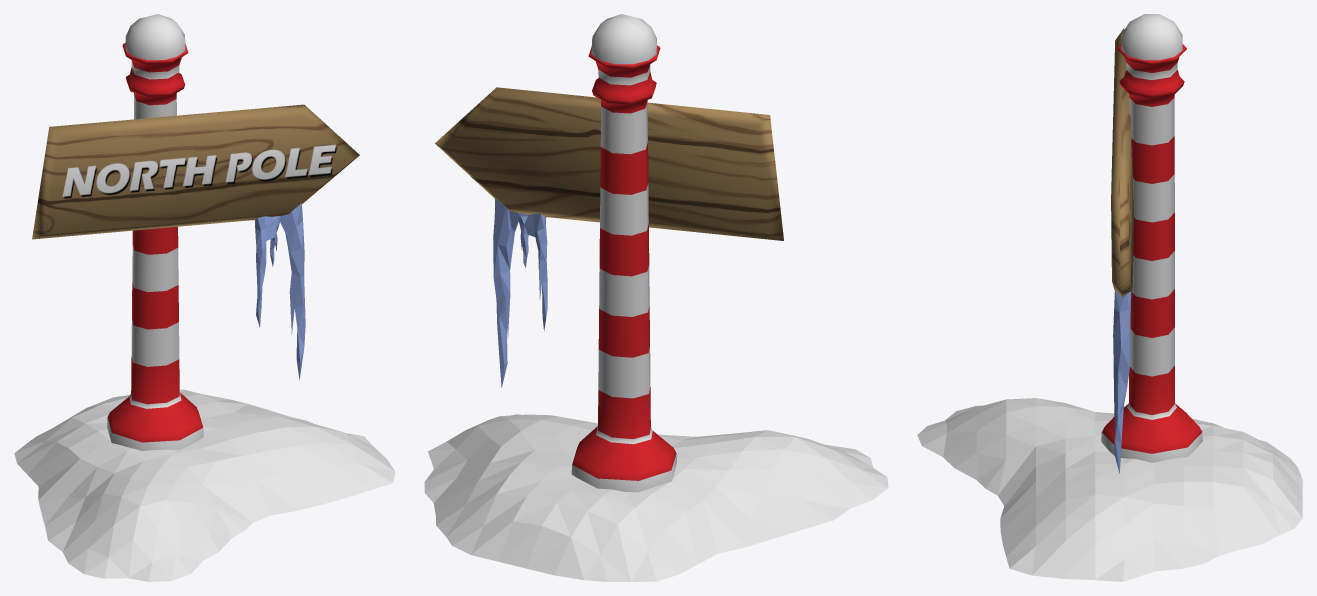
File: northpole_2022.glb
The picture shows the model from 3 angles, left to right: view 1: azimuth 30°, elevation 25°; view 2: azimuth 150°, elevation 25°; view 3: azimuth 270°, elevation 25°; orthographic projection. The views are drawn at different scales.
Visible parts, largest first — view 1: SnowCheckpoint; view 2: SnowCheckpoint; view 3: SnowCheckpoint.
Part boxes in pixels (x1,y1,x2,y2): SnowCheckpoint: [14, 14, 395, 581]; SnowCheckpoint: [424, 14, 888, 581]; SnowCheckpoint: [917, 14, 1302, 581].
Bounding box in the file's own units: 0.8491 × 1.05 × 0.7843.
1 material, 1 textured.
